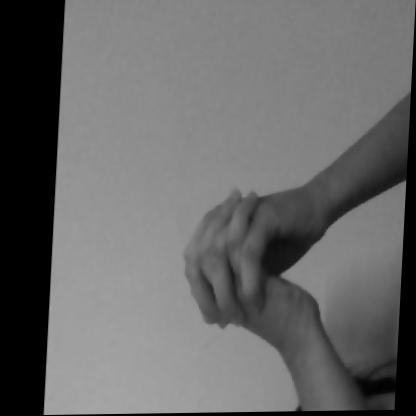prayer: (177, 132, 354, 359)
